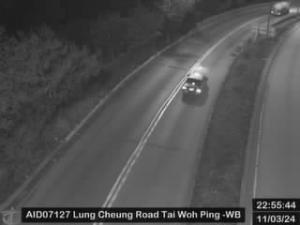vehicle: (180, 72, 210, 104), (270, 2, 290, 16)
